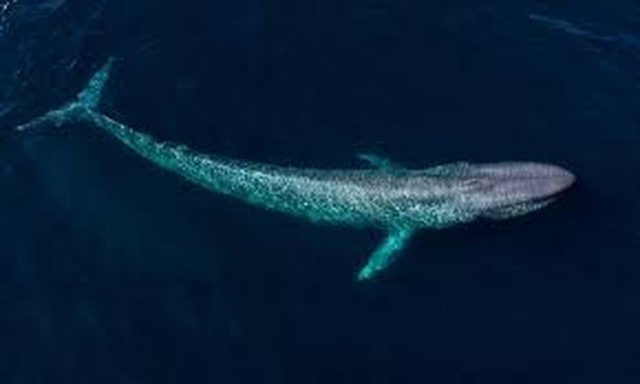whale: (6, 49, 589, 298)
